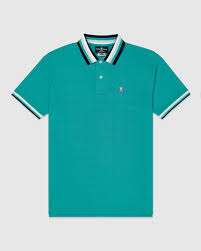C_polo shirt: (19, 32, 192, 221)
